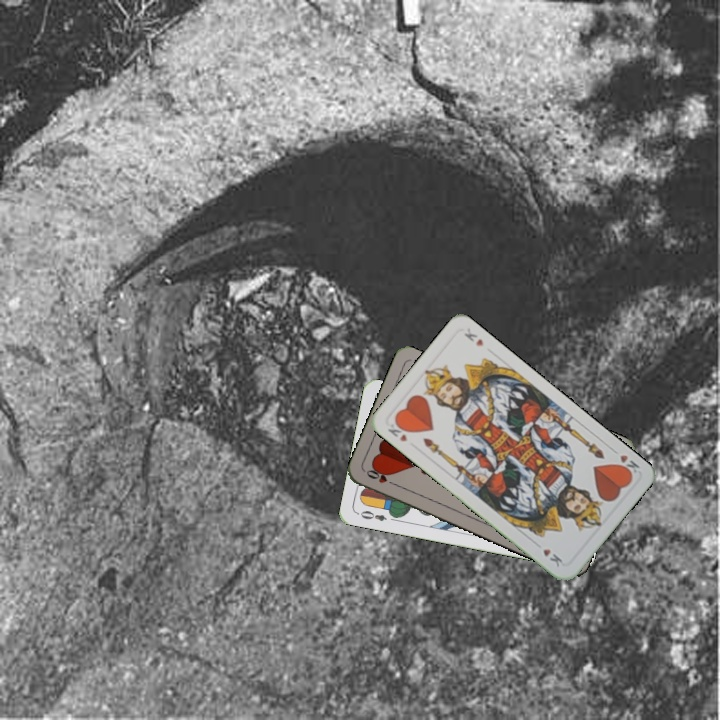EO: (354, 507, 389, 524)
HK: (607, 444, 642, 479), (384, 417, 412, 444)
HO: (362, 466, 400, 489)
